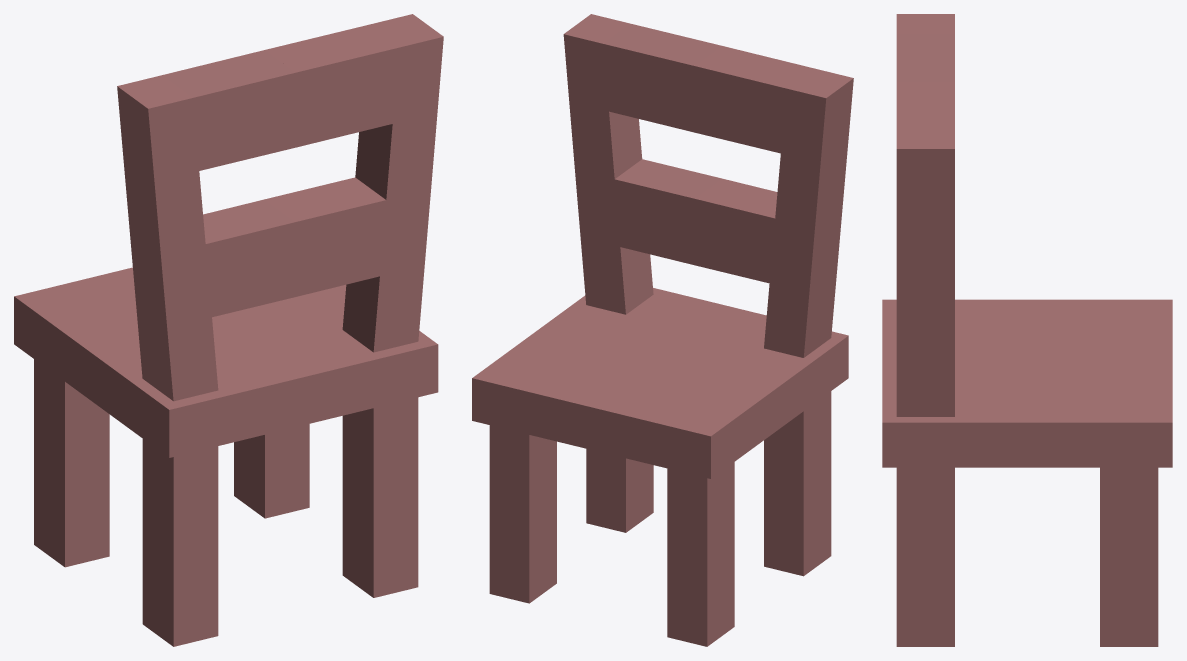
File: chair.fbx
3 renders of one model, left to right at view 1: azimuth 30°, elevation 25°; view 2: azimuth 150°, elevation 25°; view 3: azimuth 270°, elevation 25°, orthographic. The views are drawn at different scales.
Visible parts, largest first — view 1: Cube; view 2: Cube; view 3: Cube.
Part boxes in pixels (x1,y1,x2,y2): Cube: (14,14,443,646); Cube: (472,14,853,646); Cube: (882,14,1172,646).
Size of the model in its own units: 220 by 387 by 200.
